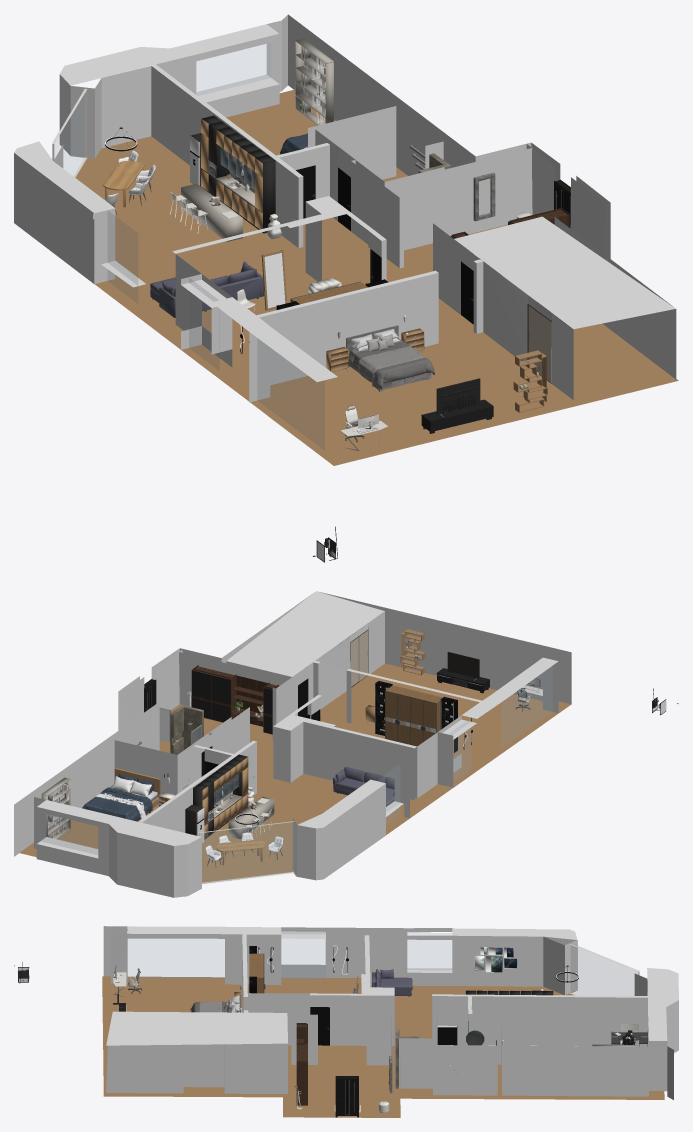
File: AAELS-premium-web.glb
3 views of the same model, one above another, from view 1: azimuth 30°, elevation 25°; view 2: azimuth 150°, elevation 25°; view 3: azimuth 270°, elevation 25° (orthographic). The views are drawn at different scales.
Visible parts, largest first — view 1: AAELS_PREMIUM_WEB_DECOR, AAELS_PREMIUM_WEB_ARCHITECTURE, Куб.003; view 2: AAELS_PREMIUM_WEB_DECOR, AAELS_PREMIUM_WEB_ARCHITECTURE, Cabinet, Cabinet.001; view 3: AAELS_PREMIUM_WEB_DECOR, AAELS_PREMIUM_WEB_ARCHITECTURE.
Part boxes in pixels (x1,y1,x2,y2): AAELS_PREMIUM_WEB_DECOR: (14, 14, 678, 561); AAELS_PREMIUM_WEB_ARCHITECTURE: (190, 135, 570, 562); Куб.003: (473, 172, 495, 221); AAELS_PREMIUM_WEB_DECOR: (14, 591, 678, 897); AAELS_PREMIUM_WEB_ARCHITECTURE: (144, 678, 666, 842); Cabinet: (375, 681, 392, 735); Cabinet.001: (440, 696, 457, 752); AAELS_PREMIUM_WEB_DECOR: (14, 926, 678, 1117); AAELS_PREMIUM_WEB_ARCHITECTURE: (18, 946, 517, 1117).
Size of the model in its own units: 14.01 by 2.95 by 23.14.
Materials: 115 (39 with a texture image).
